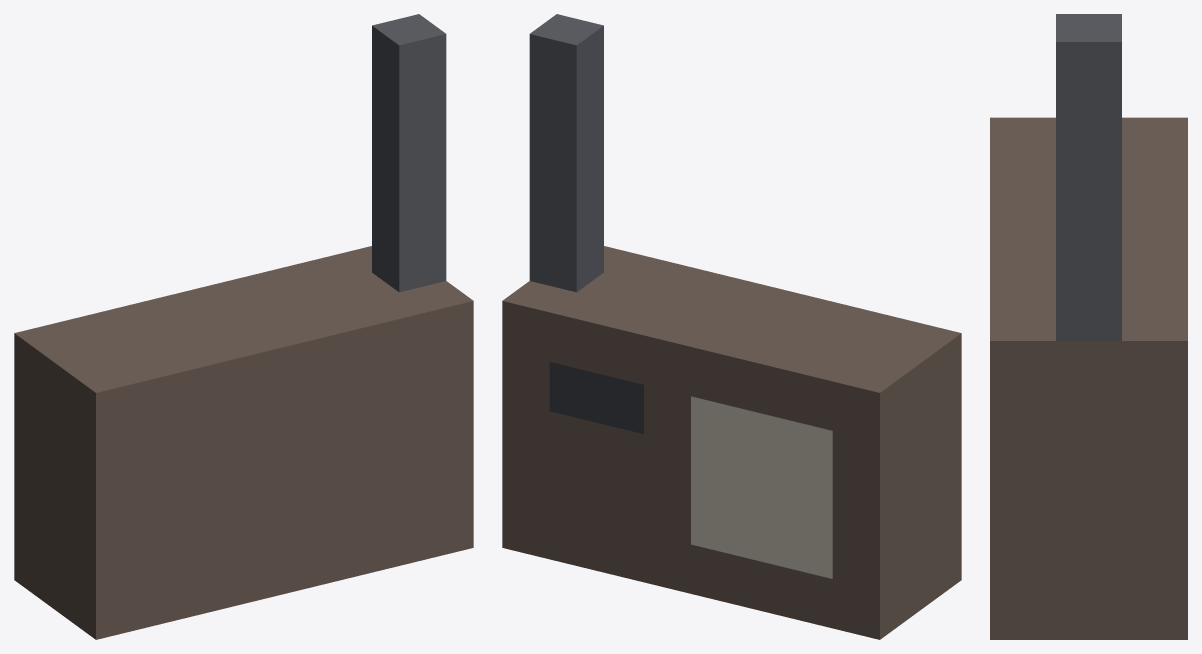
The model's file is radio.glb.
3 views of the same model, side by side, from view 1: azimuth 30°, elevation 25°; view 2: azimuth 150°, elevation 25°; view 3: azimuth 270°, elevation 25° (orthographic). The views are drawn at different scales.
Parts seen in each view (by area): view 1: main; view 2: main; view 3: main.
Boxes of the visible parts, left/top/right/bottom form: main: left=14, top=14, right=473, bottom=639; main: left=502, top=14, right=961, bottom=639; main: left=990, top=14, right=1187, bottom=639.
Bounding box in the file's own units: 0.5 × 0.625 × 0.1875.
